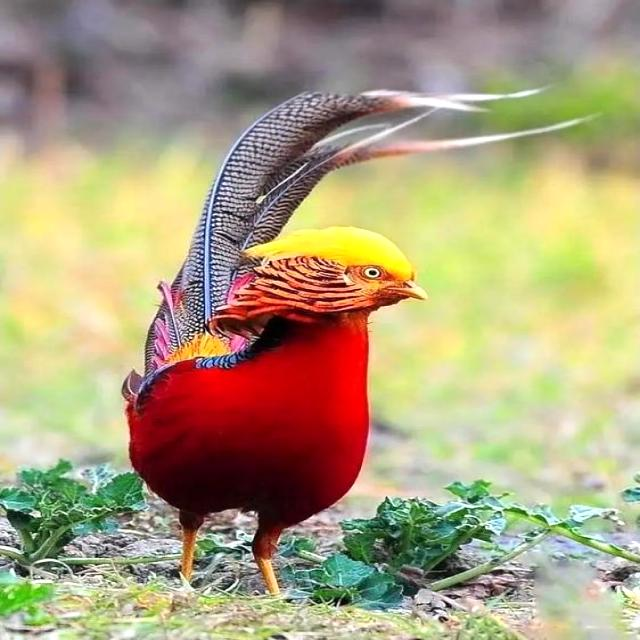Chrysolophus pictus feather: (142, 89, 575, 382)
